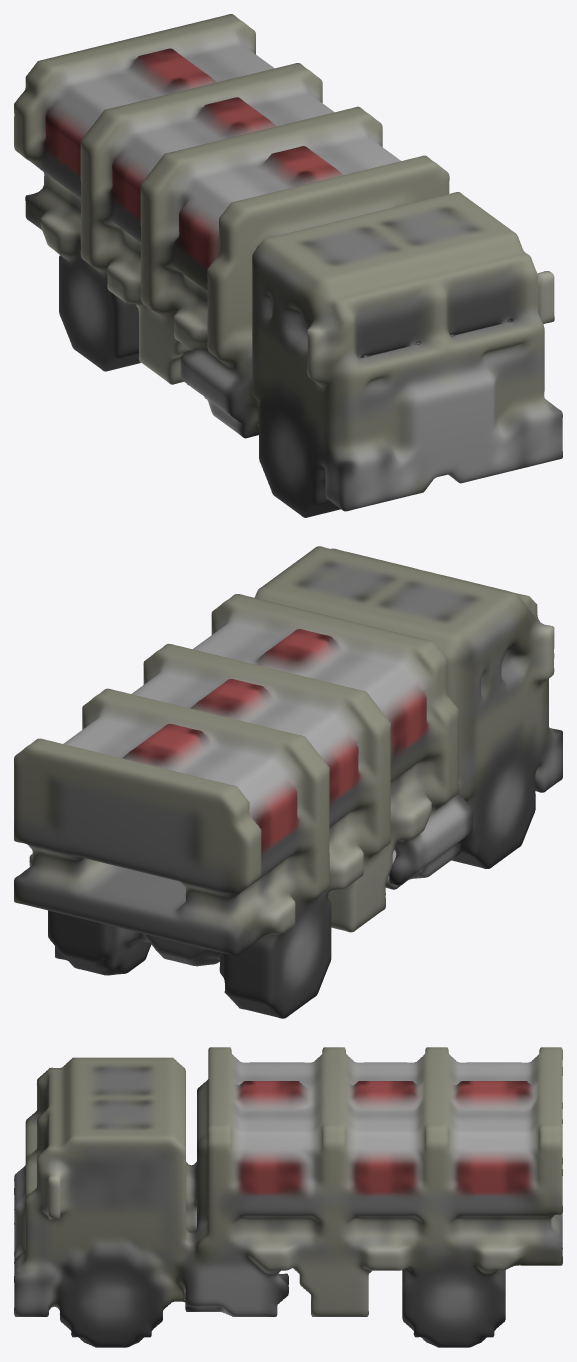
Rendered from demolition_truck.glb.
The picture shows the model from 3 angles, top to bottom: view 1: azimuth 30°, elevation 25°; view 2: azimuth 150°, elevation 25°; view 3: azimuth 270°, elevation 25°; orthographic projection. The views are drawn at different scales.
Visible parts, largest first — view 1: demolition_truck; view 2: demolition_truck; view 3: demolition_truck.
Part boxes in pixels (x1=…): demolition_truck: x1=14, y1=14, x2=562, y2=517; demolition_truck: x1=14, y1=546, x2=562, y2=1018; demolition_truck: x1=14, y1=1047, x2=562, y2=1347.
Size of the model in its own units: 1.75 by 1.73 by 3.99.
